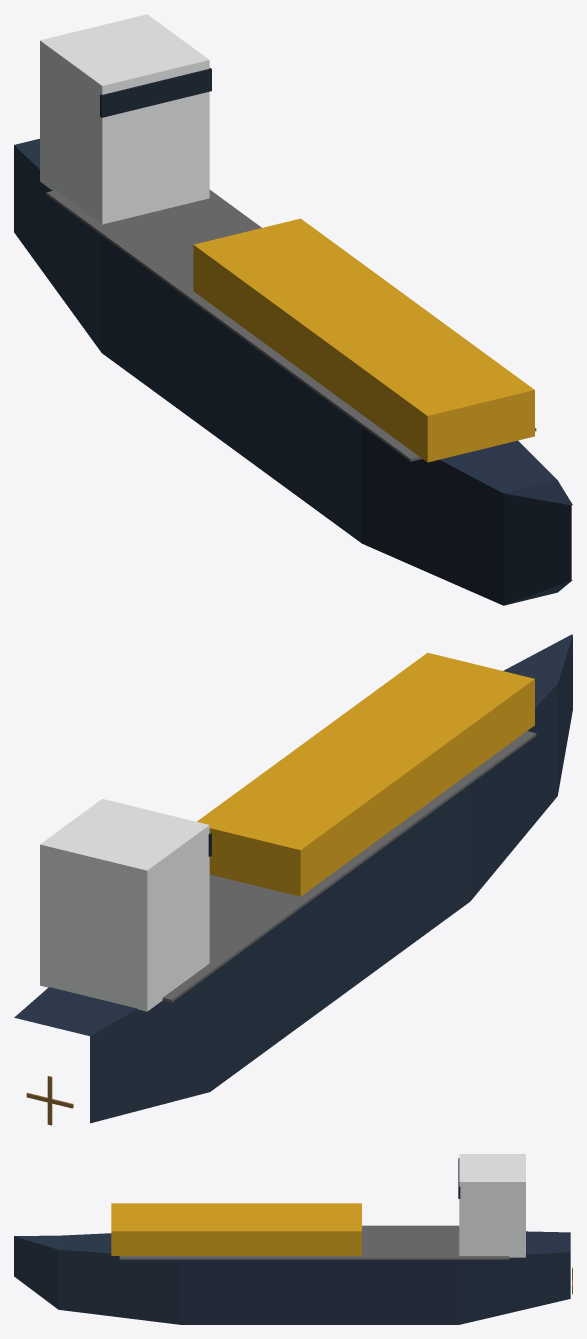
File: veh_naval_merchant_a07_lod2.glb
3 views of the same model, one above another, from view 1: azimuth 30°, elevation 25°; view 2: azimuth 150°, elevation 25°; view 3: azimuth 270°, elevation 25° (orthographic). The views are drawn at different scales.
Parts seen in each view (by area): view 1: body; view 2: body; view 3: body.
Boxes of the visible parts, x1,y1,x2,y2 form: body: [14, 14, 572, 605]; body: [14, 634, 572, 1123]; body: [14, 1154, 570, 1324].
Size of the model in its own units: 3.96 by 8.04 by 28.52.
